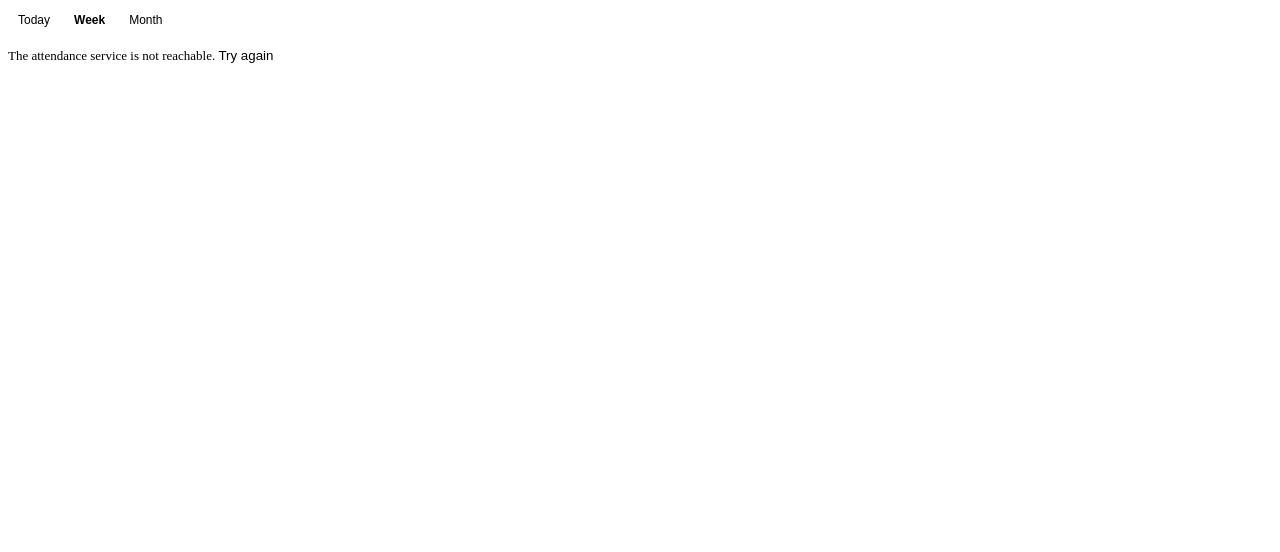
Test: a page that fails to load says why, and Try again reloads it
The image size is (1280, 552).
Expected: the message reads "The attendance service is not reachable. Try again", [8,48,274,63]
Click the button "Try again": click(246, 56) [218,48,274,63]
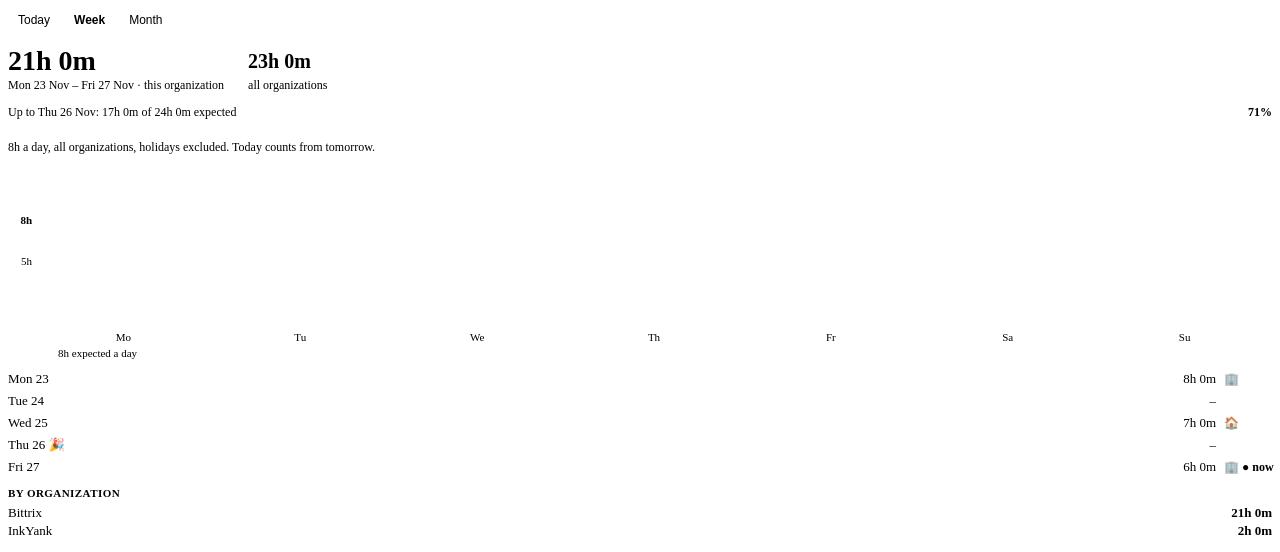
Result: the element showing "Mo Tu We Th Fr Sa Su 8h expected a day" is shown at [8,167,1272,359]
Result: the message "The attendance service is not reachable. Try again" is gone
